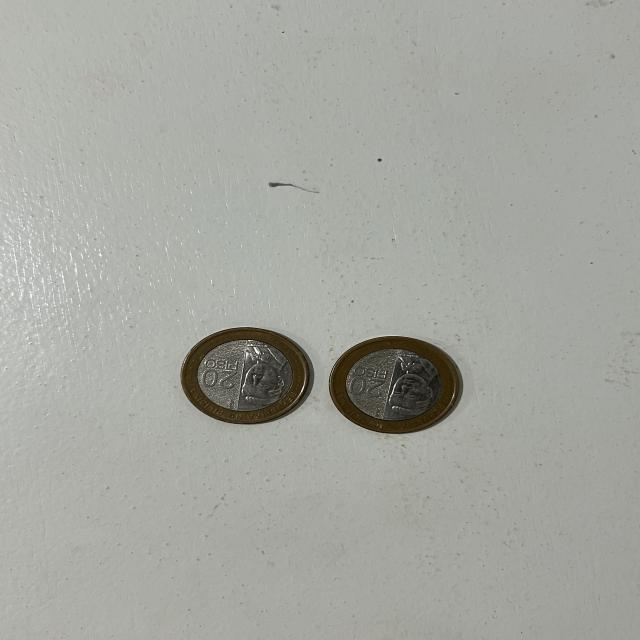20_New_Front: (356, 360, 390, 404), (201, 354, 240, 392)
